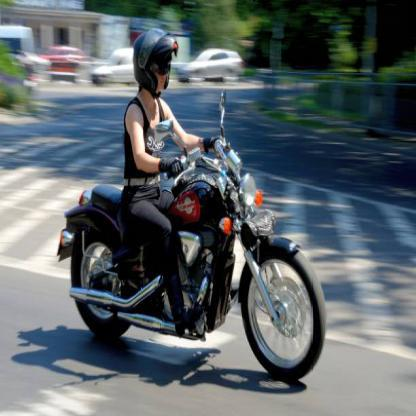Motorcycle: (57, 117, 329, 386)
